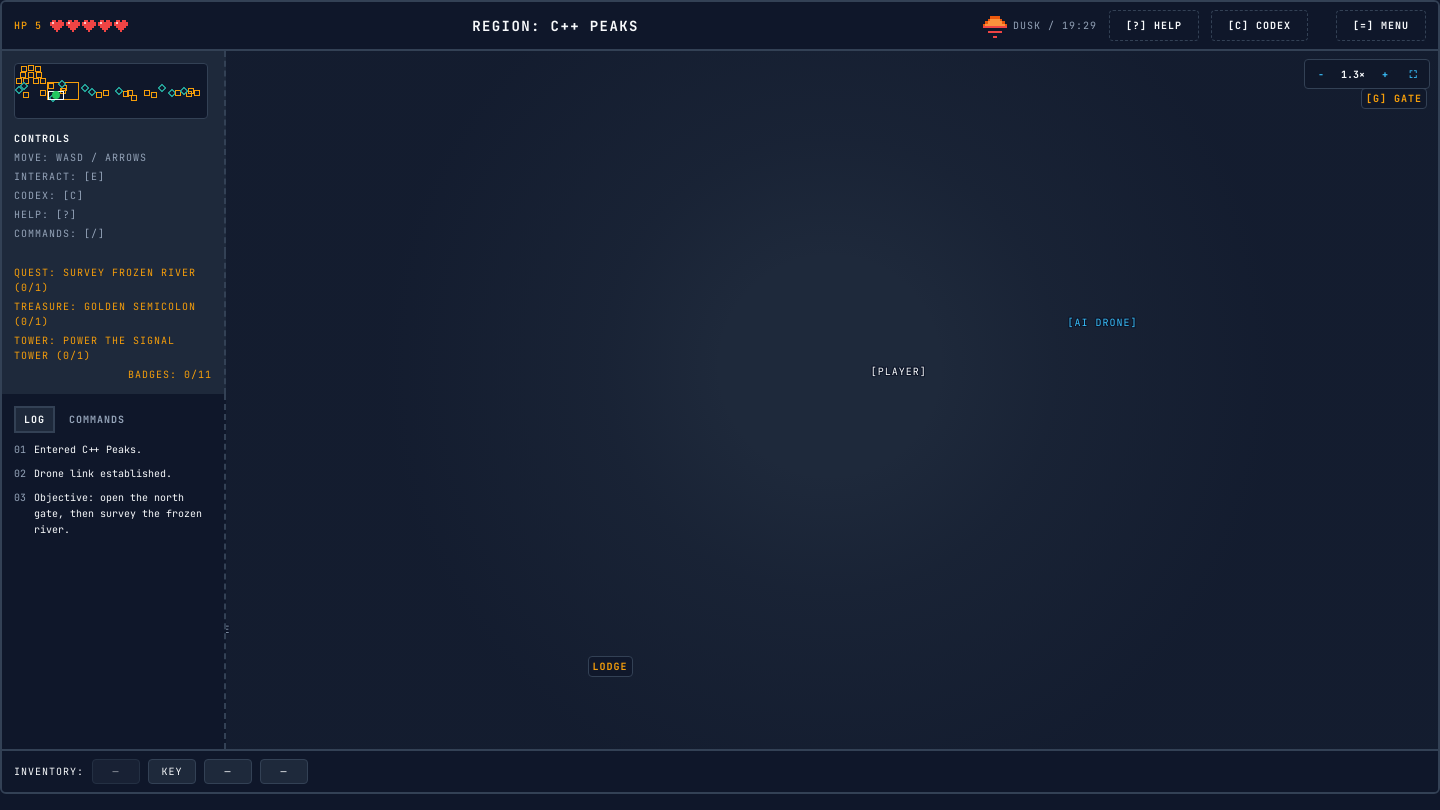
Test case: Overworld terminal puzzle › solving the puzzle closes the terminal and opens the gate
Click the button "[G] Gate". click: [1385, 54]
box: x1=1330 y1=22 x2=1439 y2=86
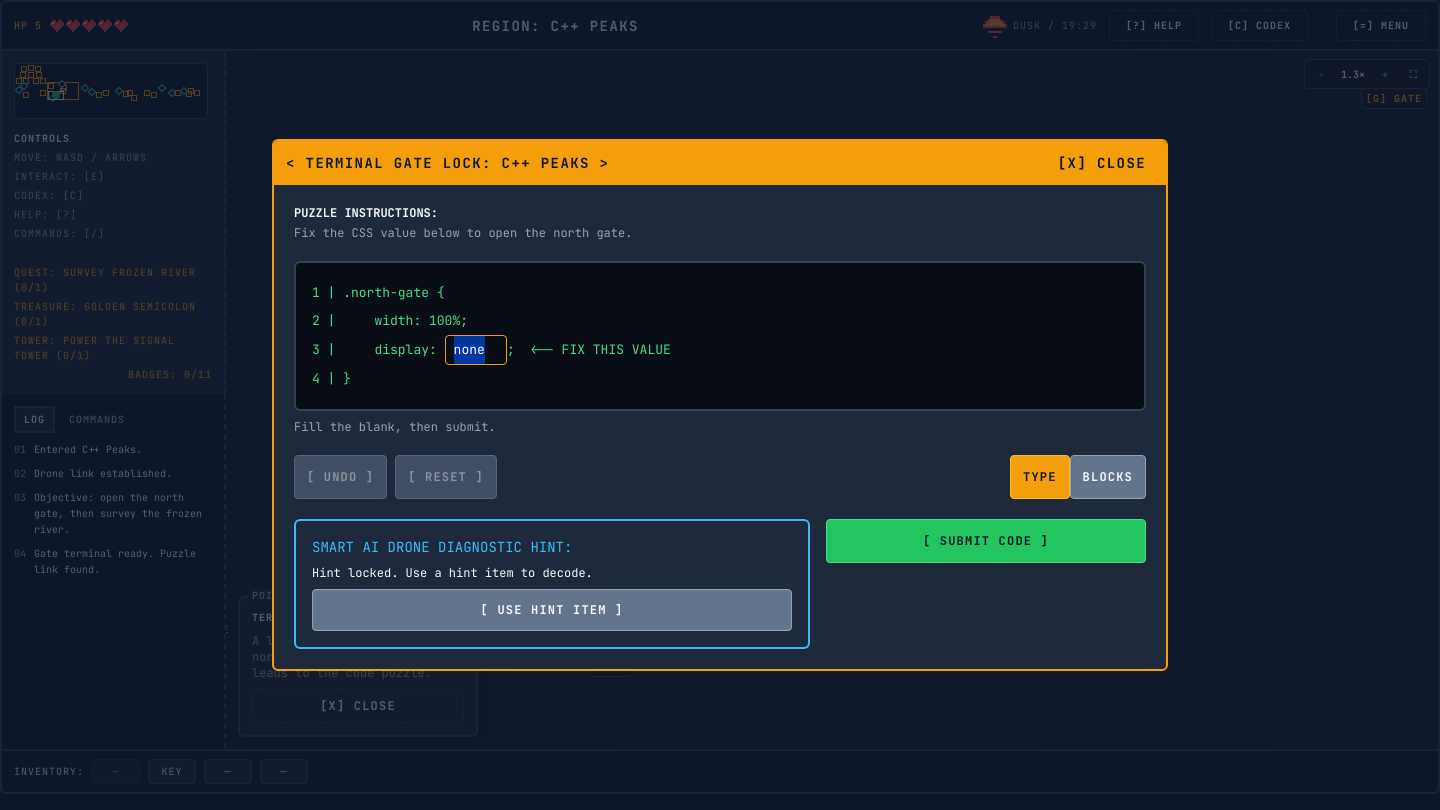
Result: the dialog "TERMINAL GATE LOCK" is shown at x1=272 y1=139 x2=1168 y2=671
Replace the text in the field named "display value" with "block". click: [476, 350]
box: x1=445 y1=335 x2=507 y2=365
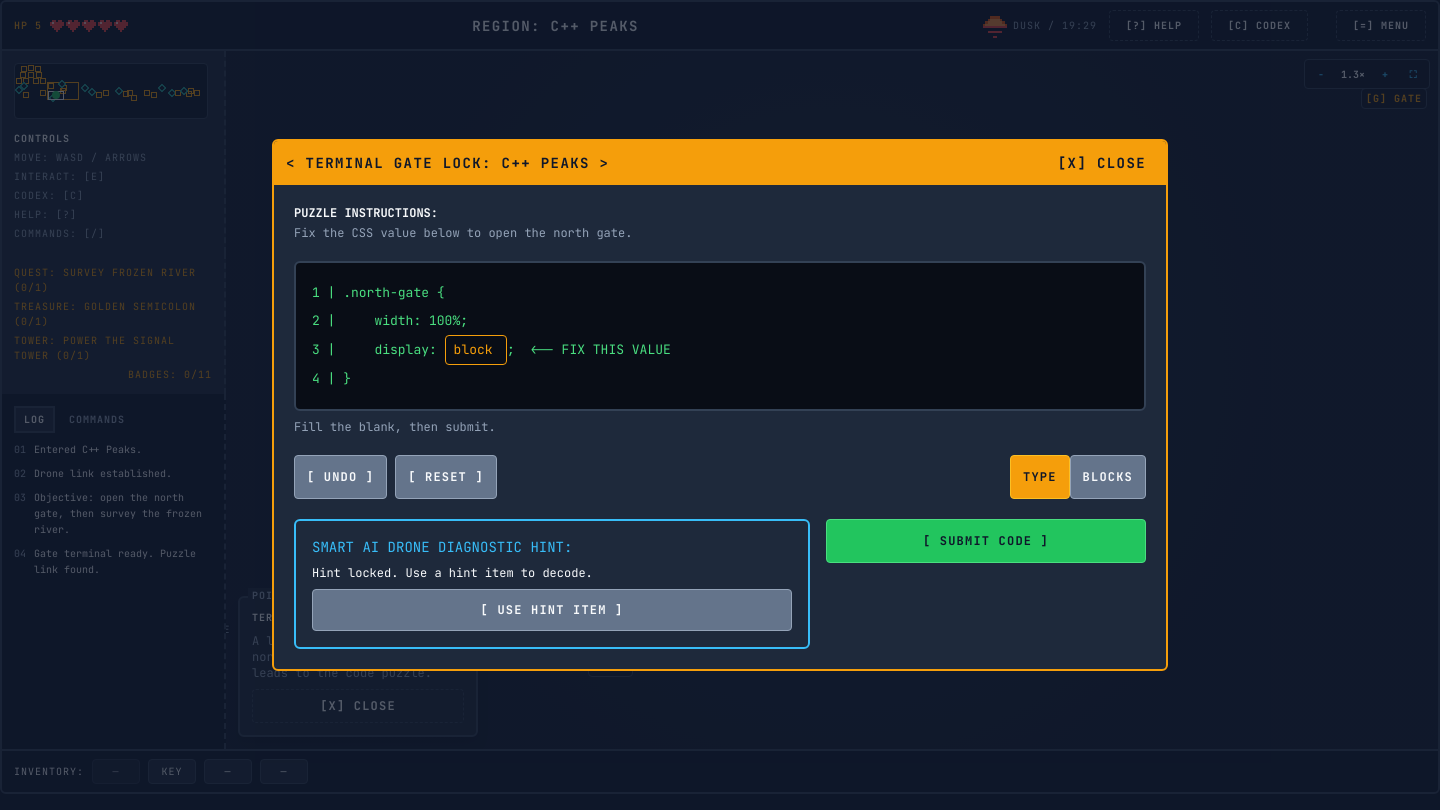
Click the button "[ SUBMIT CODE ]". click: [986, 541]
box: x1=826 y1=519 x2=1146 y2=563
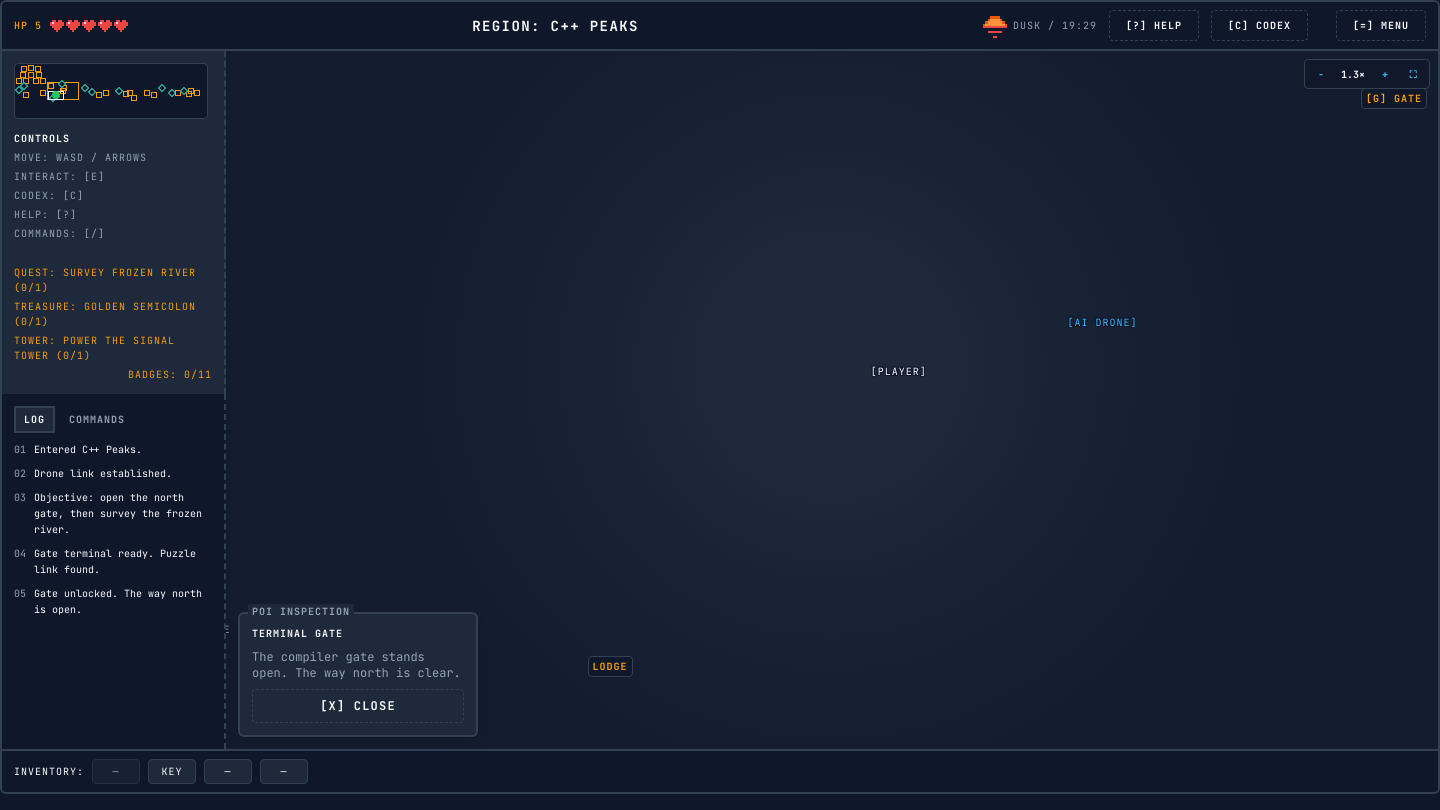
Result: the dialog is gone
Result: the text "Gate unlocked. The way north is open." is shown at x1=34 y1=586 x2=212 y2=618
